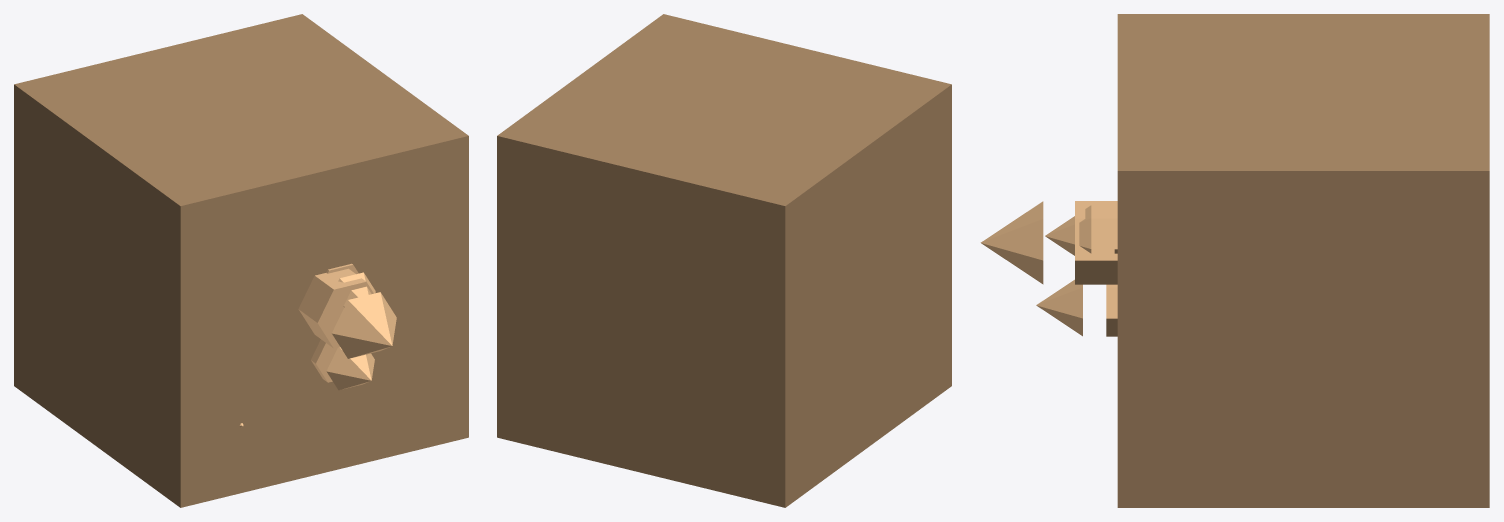
Rendered from 28_copper_vein.glb.
3 views of the same model, side by side, from view 1: azimuth 30°, elevation 25°; view 2: azimuth 150°, elevation 25°; view 3: azimuth 270°, elevation 25° (orthographic). The views are drawn at different scales.
Visible parts, largest first — view 1: RockShell, Ore_6_point, Ore_6_shaft, Ore_1_point, Ore_1_shaft; view 2: RockShell; view 3: RockShell, Ore_6_shaft, Ore_6_point, Ore_1_point, Ore_5_point, Ore_1_shaft.
Part boxes in pixels (left/top/right/bottom): RockShell: left=14, top=14, right=468, bottom=507; Ore_6_point: left=332, top=292, right=396, bottom=358; Ore_6_shaft: left=298, top=268, right=373, bottom=348; Ore_1_point: left=326, top=347, right=374, bottom=390; Ore_1_shaft: left=311, top=339, right=337, bottom=382; RockShell: left=497, top=14, right=951, bottom=507; RockShell: left=1117, top=14, right=1489, bottom=507; Ore_6_shaft: left=1075, top=201, right=1117, bottom=284; Ore_6_point: left=980, top=201, right=1043, bottom=284; Ore_1_point: left=1036, top=279, right=1082, bottom=336; Ore_5_point: left=1045, top=205, right=1091, bottom=255; Ore_1_shaft: left=1106, top=284, right=1117, bottom=336.
Bounding box in the file's own units: 1.02 × 1.02 × 1.4.
